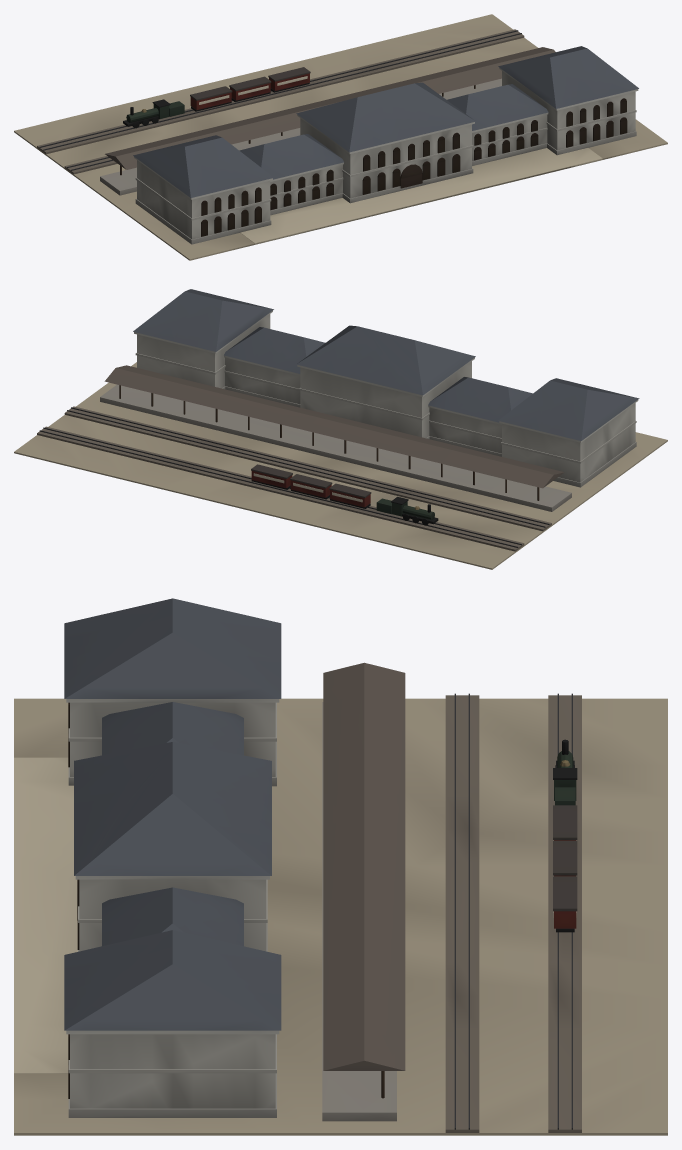
Rendered from shimbashi-station.glb.
3 renders of one model, top to bottom at view 1: azimuth 30°, elevation 25°; view 2: azimuth 150°, elevation 25°; view 3: azimuth 270°, elevation 25°, orthographic. The views are drawn at different scales.
Visible parts, largest first — view 1: p1_station, p0_ground, p2_platform, p3_train; view 2: p1_station, p0_ground, p2_platform, p3_train; view 3: p0_ground, p1_station, p2_platform, p3_train.
Boxes of the visible parts, x1=… form: p1_station: x1=100, y1=46, x2=638, y2=244; p0_ground: x1=14, y1=14, x2=667, y2=260; p2_platform: x1=37, y1=29, x2=555, y2=175; p3_train: x1=123, y1=67, x2=310, y2=128; p1_station: x1=100, y1=289, x2=639, y2=511; p0_ground: x1=14, y1=362, x2=667, y2=569; p2_platform: x1=37, y1=365, x2=564, y2=551; p3_train: x1=251, y1=464, x2=438, y2=525; p0_ground: x1=14, y1=698, x2=667, y2=1135; p1_station: x1=64, y1=598, x2=396, y2=1121; p2_platform: x1=323, y1=662, x2=581, y2=1132; p3_train: x1=553, y1=739, x2=577, y2=932.
Bounding box in the file's own units: 110 × 17.8 × 70.
